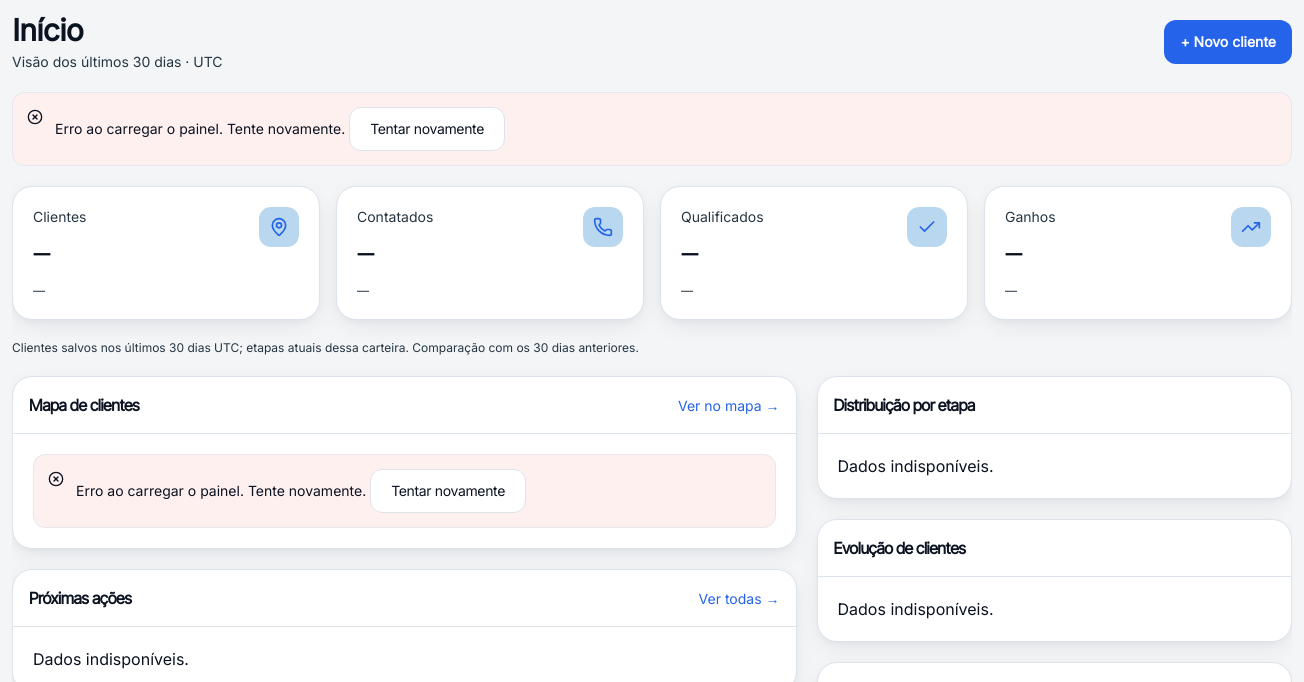
Test: Início #363 › shows recoverable API errors and dashes instead of fabricated totals
Expected: the number of messages is 2, x1=12 y1=92 x2=1292 y2=166; x1=33 y1=454 x2=776 y2=528
Expected: the text "—" is shown 2 times, x1=33 y1=233 x2=51 y2=272; x1=33 y1=283 x2=45 y2=298
Click the 1st button "Tentar novamente": coordinates (427, 129) x1=349 y1=107 x2=505 y2=151
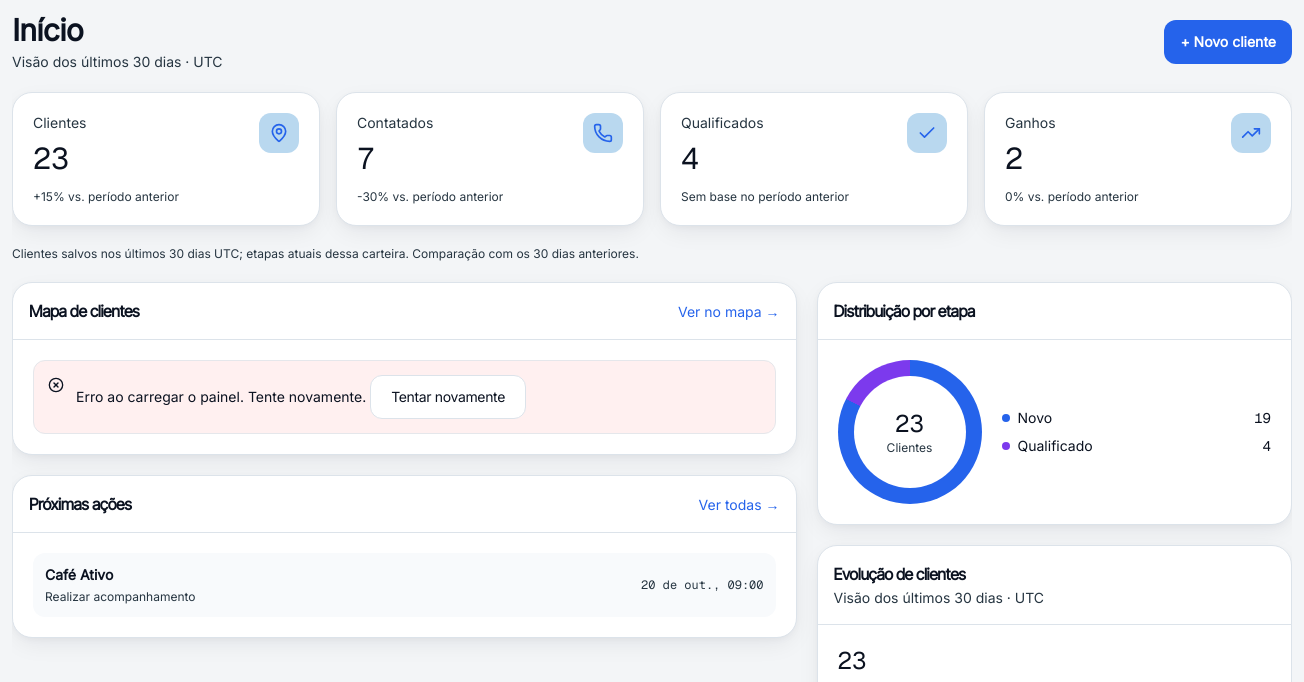
Expected: the 1st text "23" is shown, x1=33 y1=139 x2=69 y2=178
